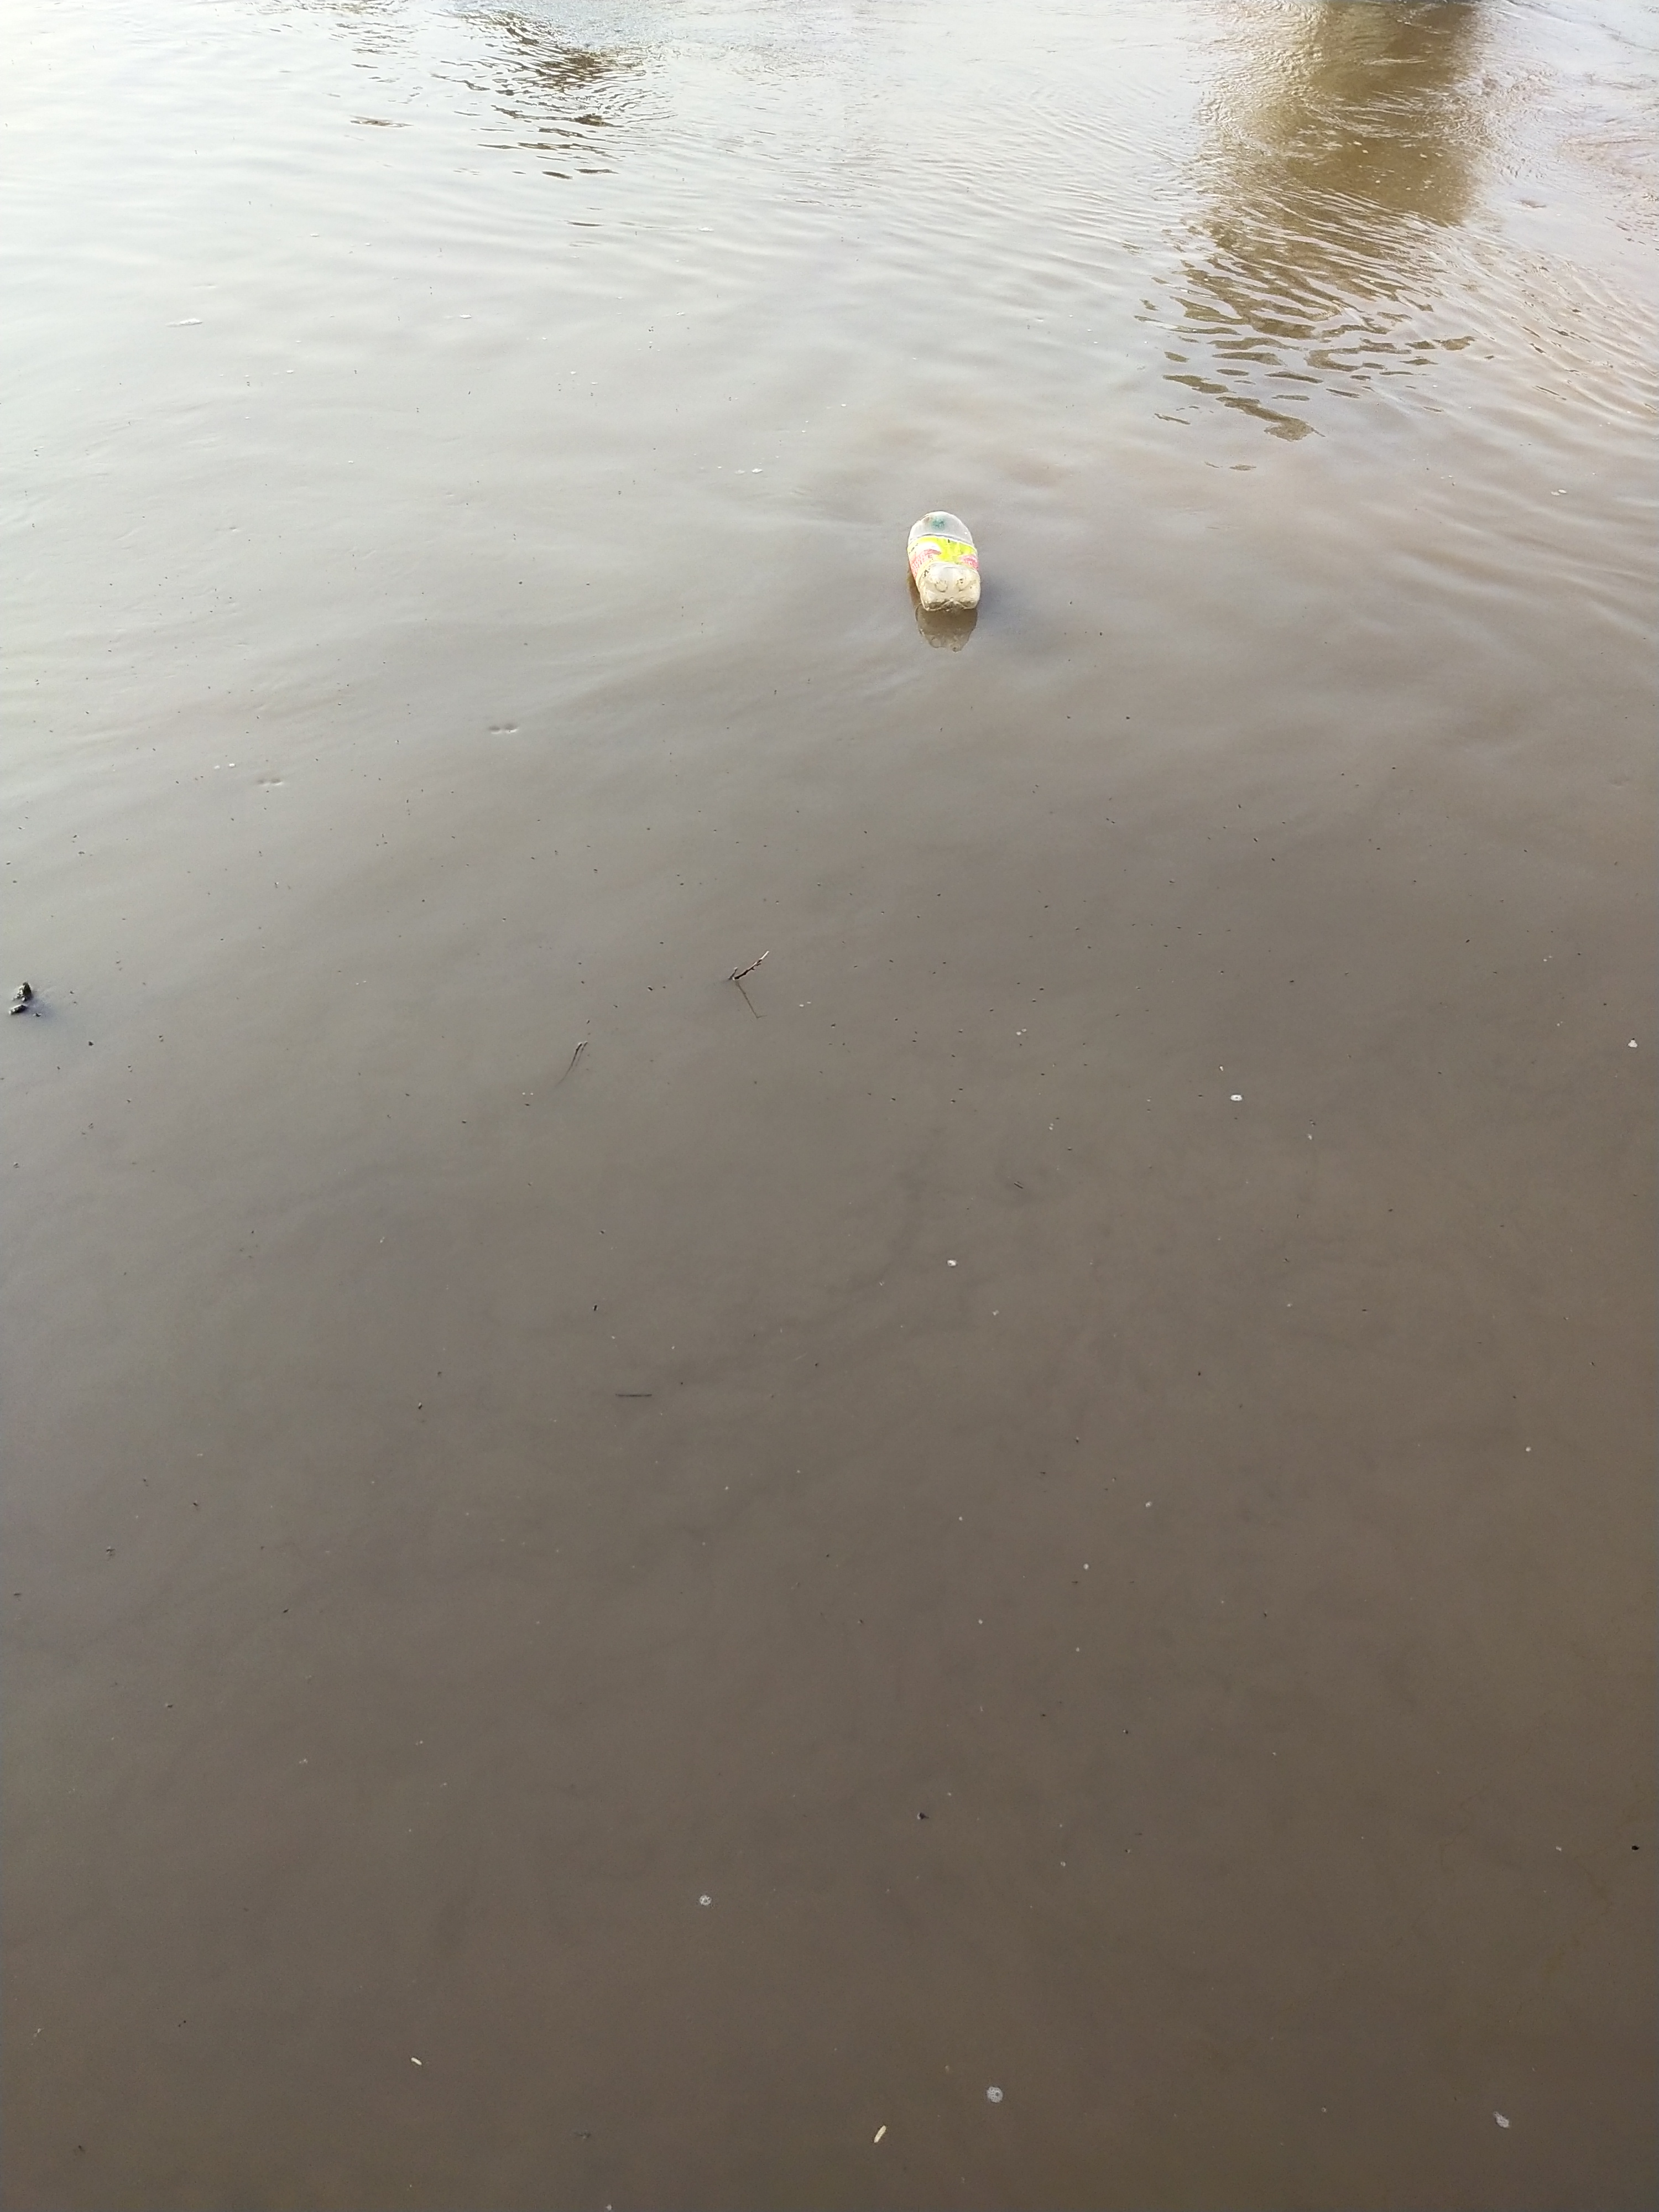Plastic Bottle: (906, 510, 981, 613)
